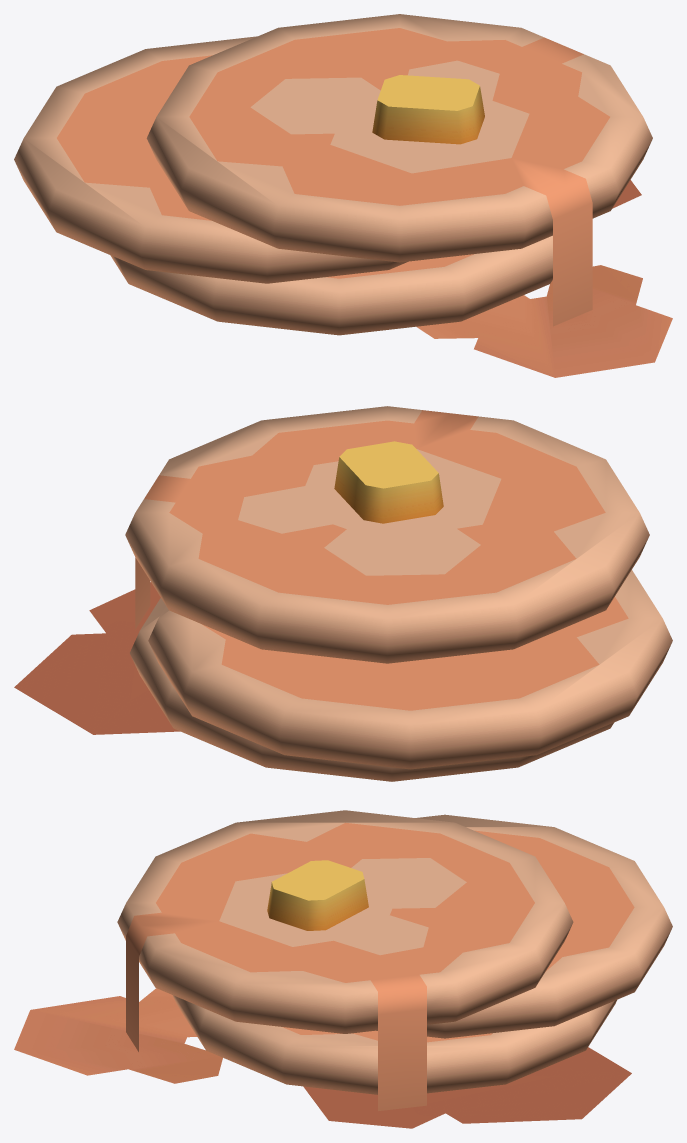
Rendered from pancakes.glb.
3 renders of one model, top to bottom at view 1: azimuth 30°, elevation 25°; view 2: azimuth 150°, elevation 25°; view 3: azimuth 270°, elevation 25°, orthographic. The views are drawn at different scales.
Visible parts, largest first — view 1: dish; view 2: dish; view 3: dish.
Boxes of the visible parts, x1,y1,x2,y2 form: dish: [14, 14, 672, 377]; dish: [14, 406, 672, 781]; dish: [14, 810, 672, 1128].
Bounding box in the file's own units: 0.1417 × 0.0396 × 0.164.
Materials: 1 (1 with a texture image).
